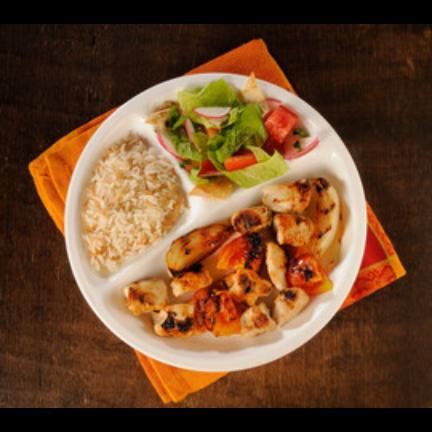chicken: (124, 178, 343, 337)
rice: (82, 133, 185, 273)
salad: (168, 79, 287, 188)
tomato: (264, 106, 297, 151)
